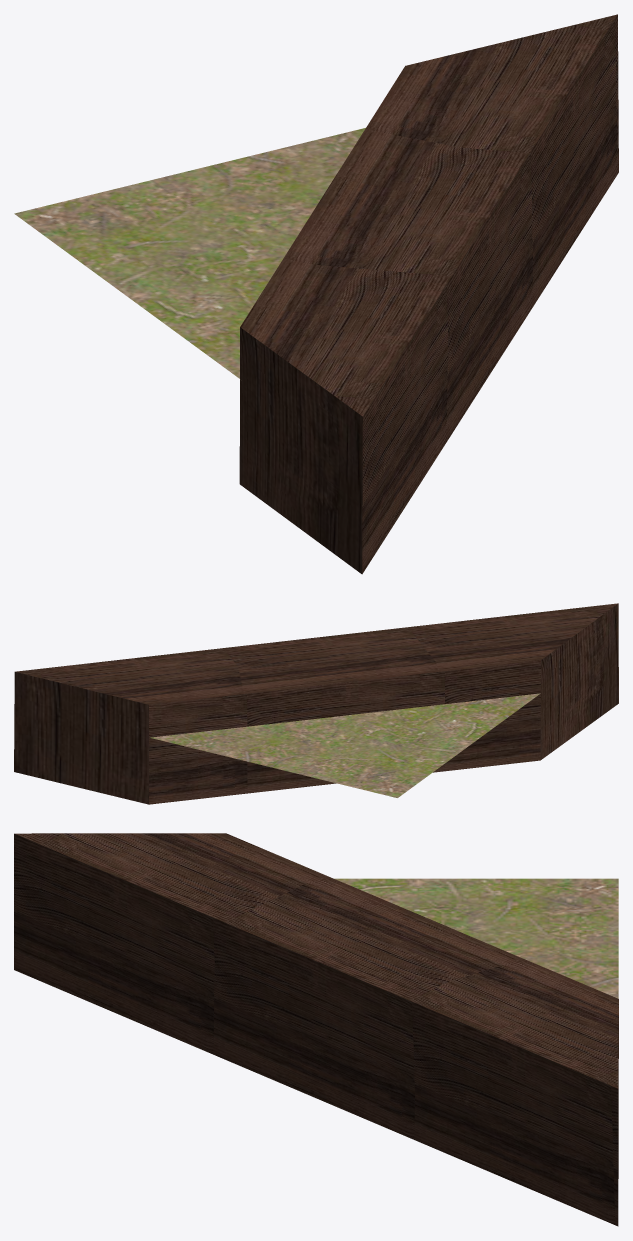
File: corner.fbx
3 views of the same model, one above another, from view 1: azimuth 30°, elevation 25°; view 2: azimuth 150°, elevation 25°; view 3: azimuth 270°, elevation 25° (orthographic). The views are drawn at different scales.
Visible parts, largest first — view 1: Cube.002; view 2: Cube.002; view 3: Cube.002.
Part boxes in pixels (box(x1,y1,x2,y2)): Cube.002: box(14, 14, 618, 574); Cube.002: box(14, 603, 618, 804); Cube.002: box(14, 833, 618, 1226).
Size of the model in its own units: 201 by 50.18 by 200.
